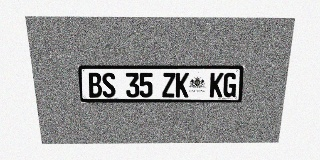3: (125, 73, 139, 97)
5: (139, 73, 153, 97)
B: (87, 73, 102, 97)
G: (222, 73, 237, 97)
K: (209, 73, 224, 97), (175, 73, 189, 97)
S: (101, 73, 116, 97)
Z: (162, 73, 175, 97)
